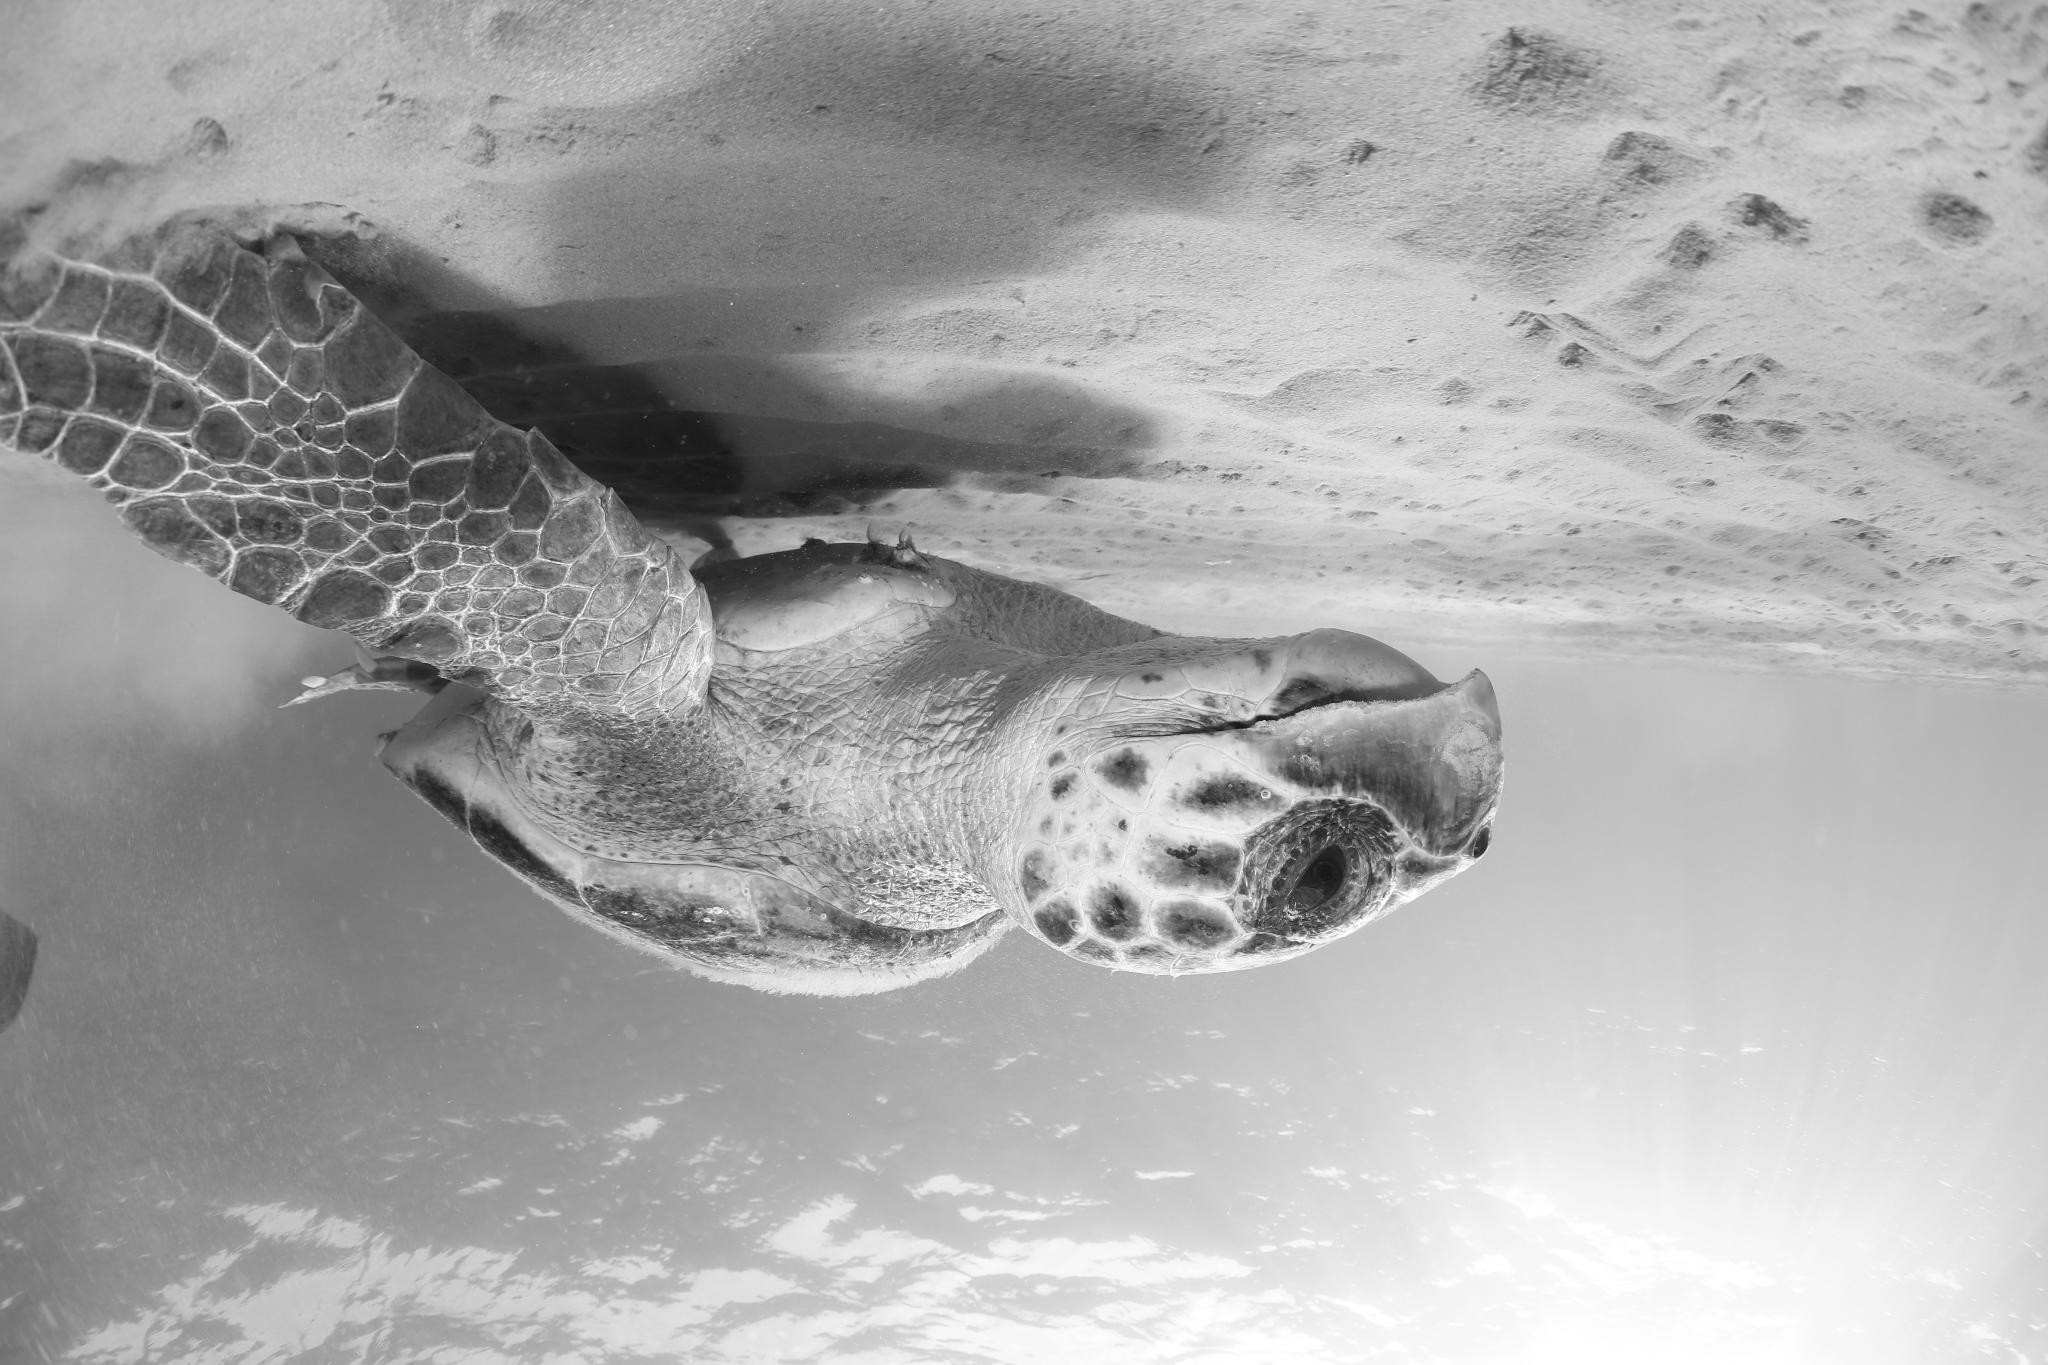Head: (970, 629, 1502, 975)
